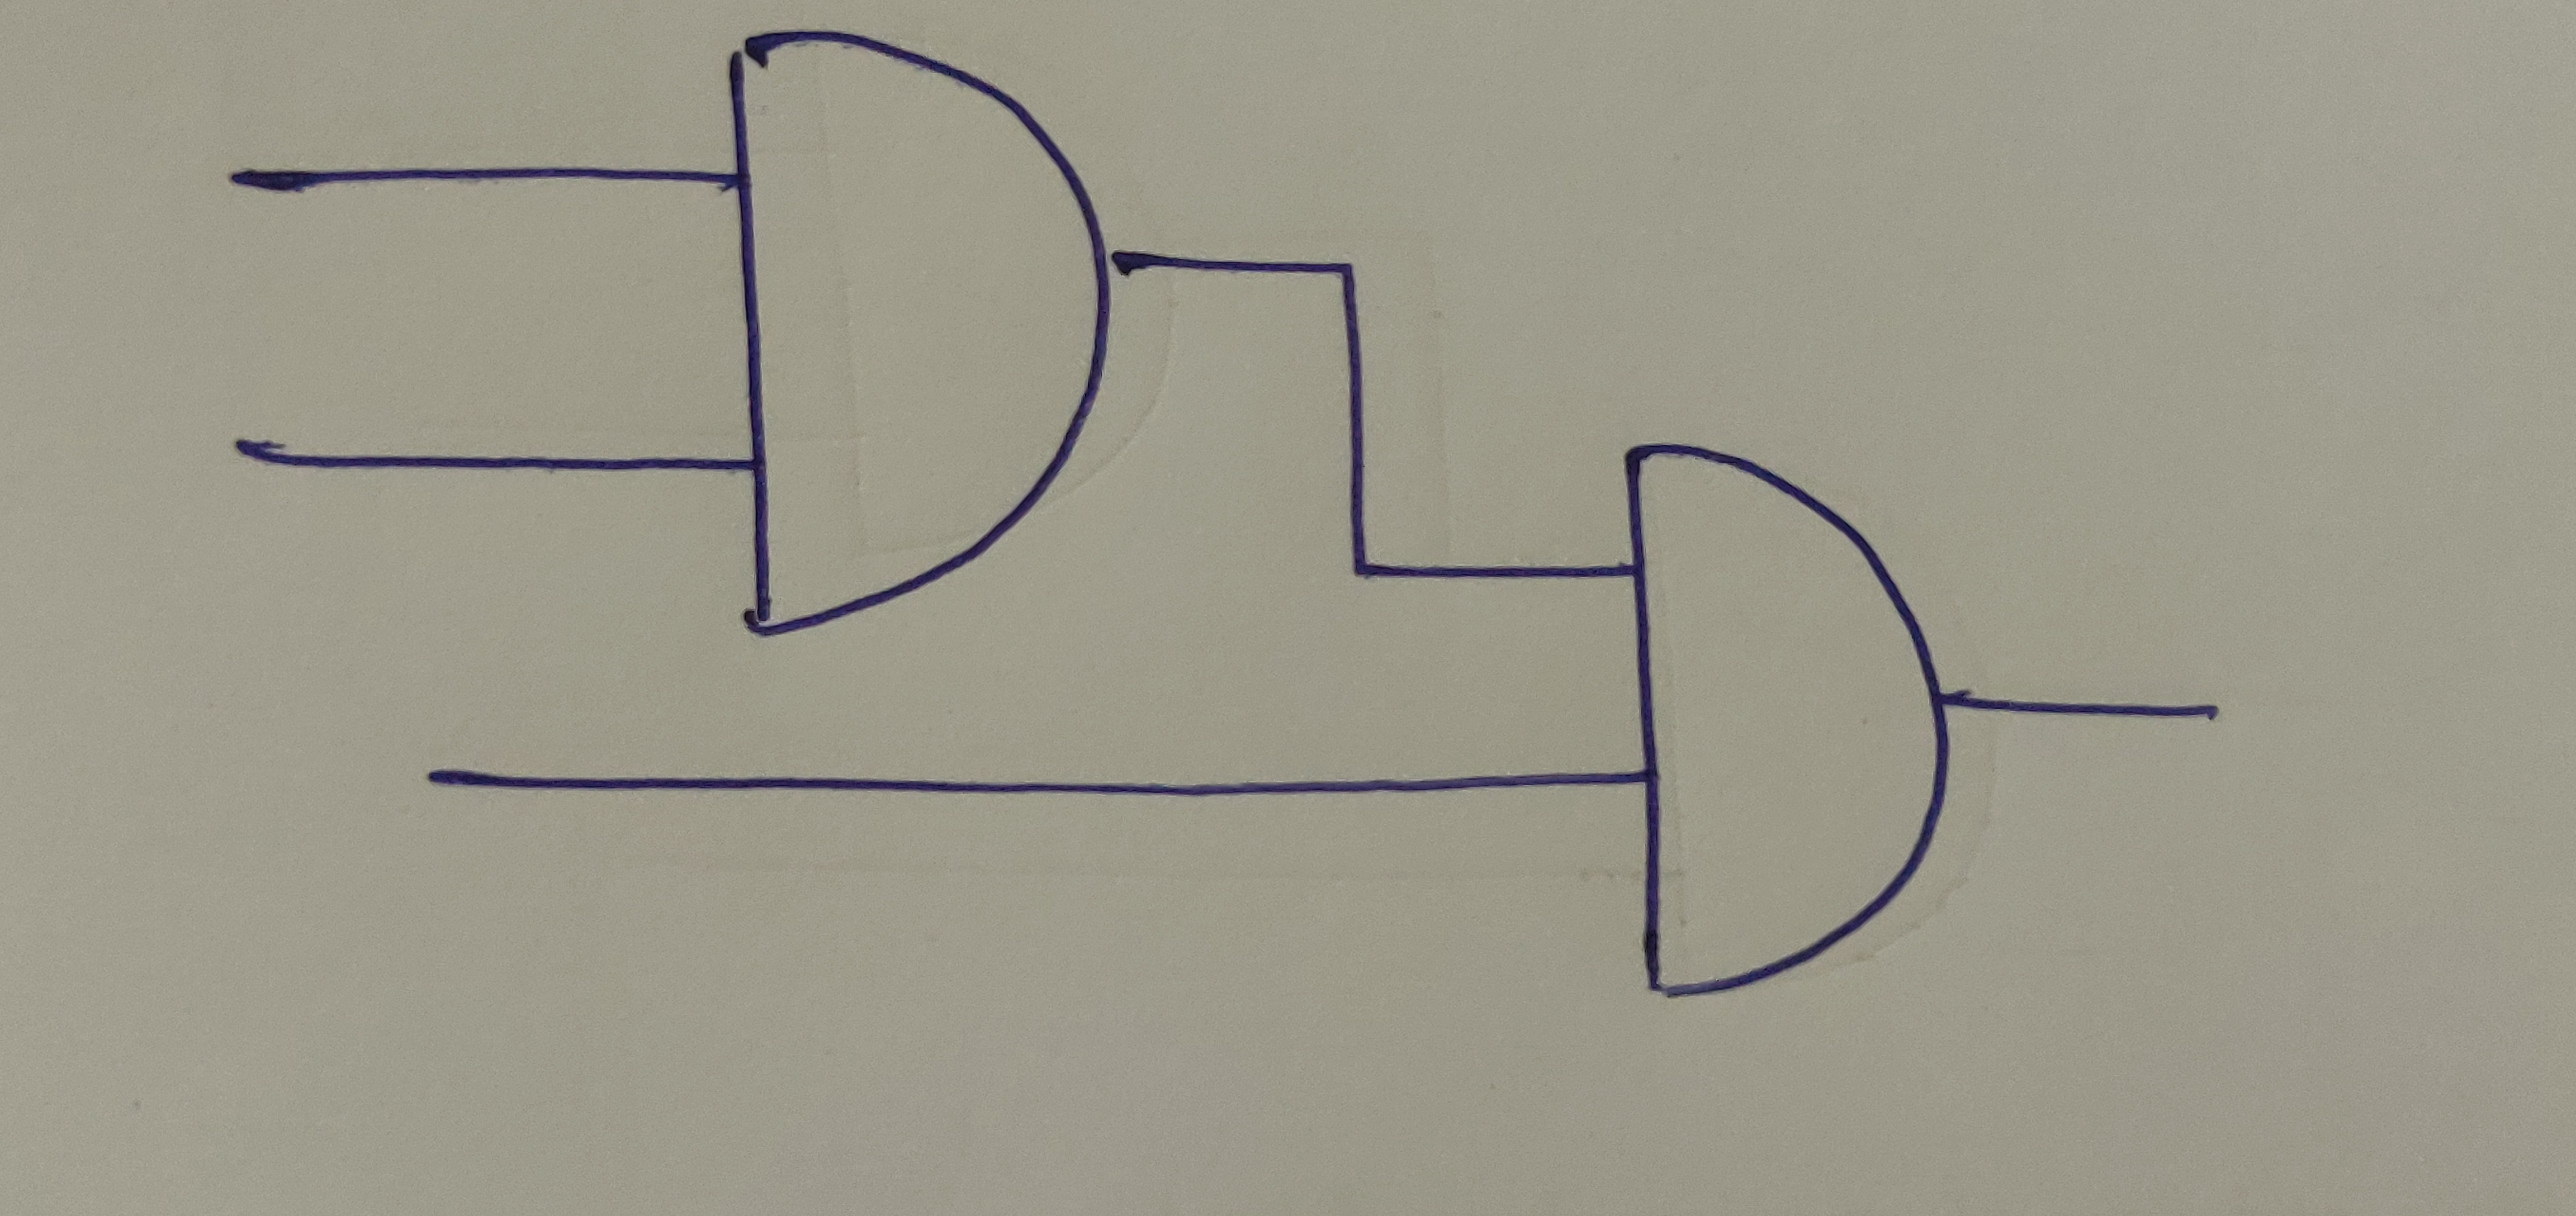and: (729, 30, 1112, 638), (1618, 439, 1948, 997)
